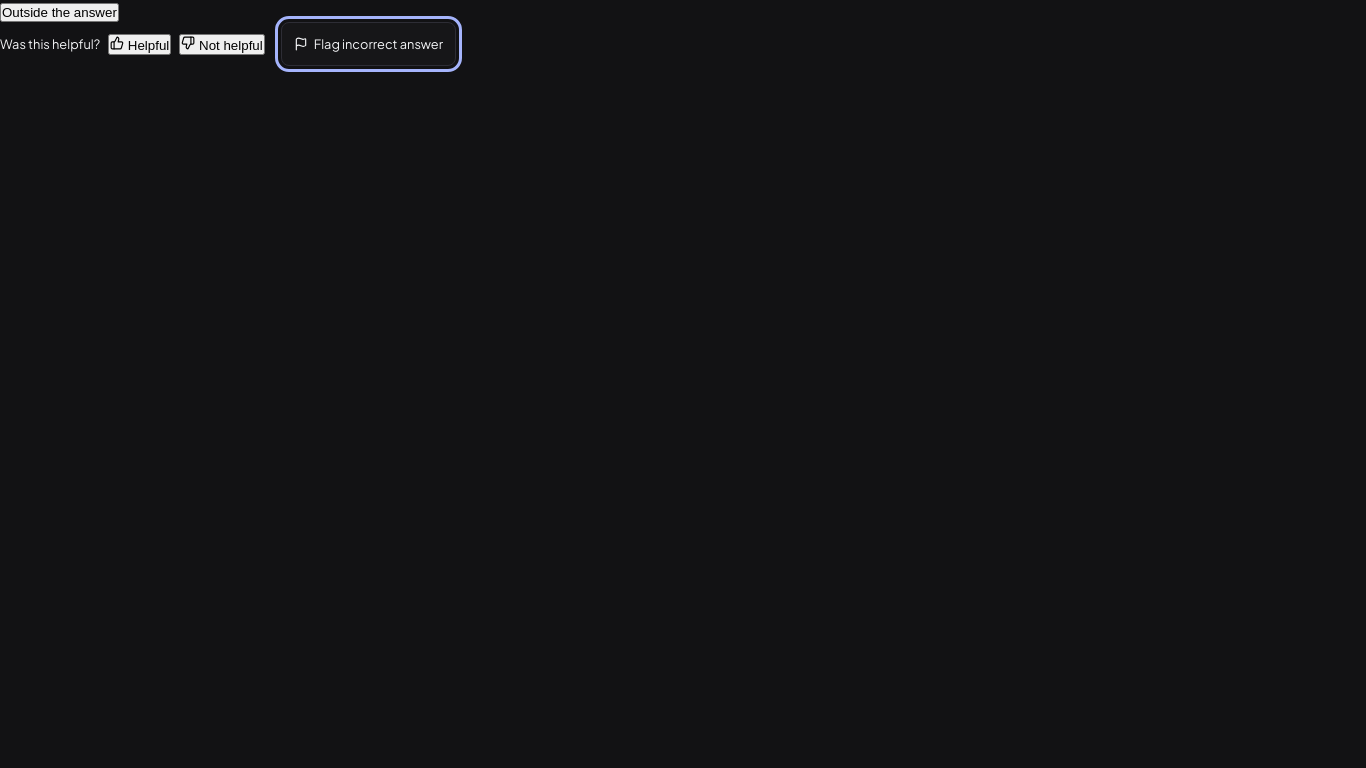
Test: Report dialog accessibility and dismissal › dismisses with Close report dialog and restores focus without sending
Step 1. Click the button "Flag incorrect answer" → {"x": 368, "y": 44}, box [281,22,456,66]
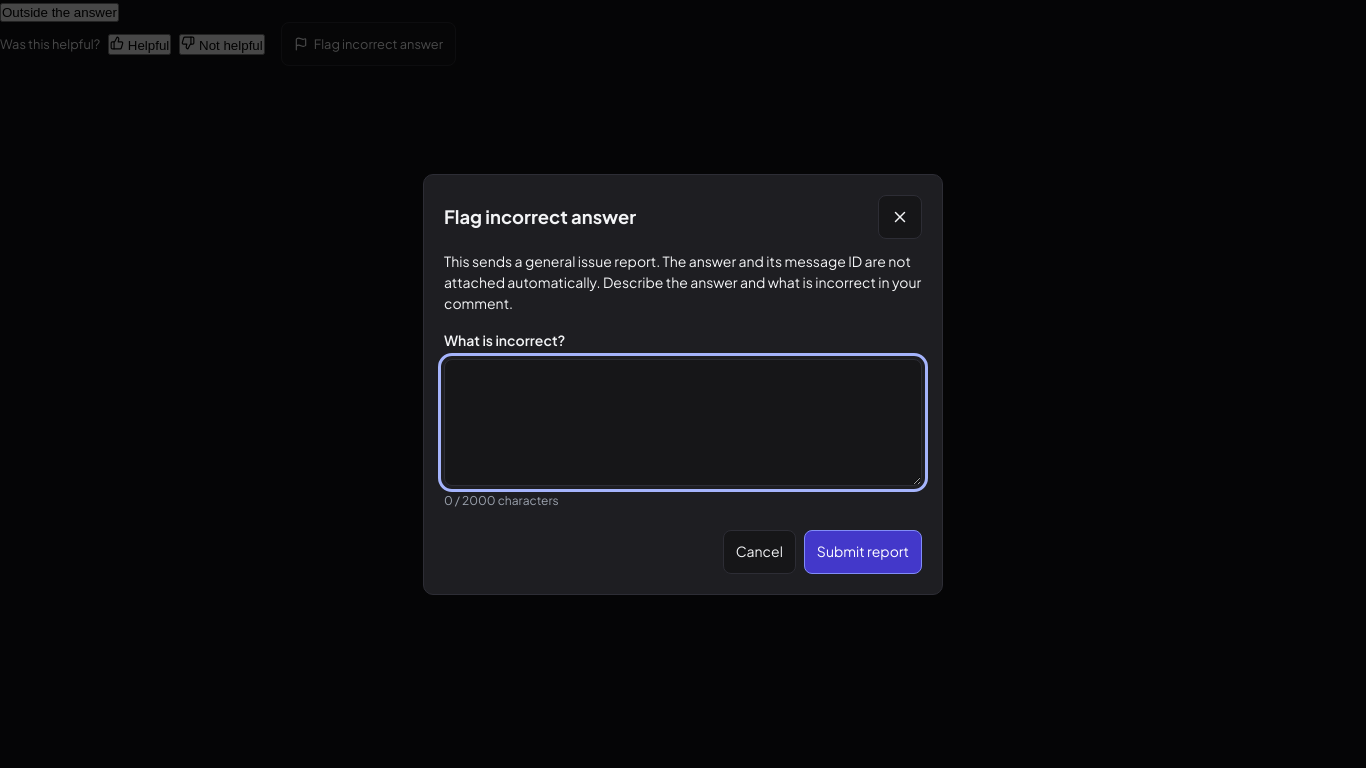
Step 2. Type "The second step uses the wrong sign." into the text box labelled "What is incorrect?" → {"x": 683, "y": 422}, box [444,358,922,486]
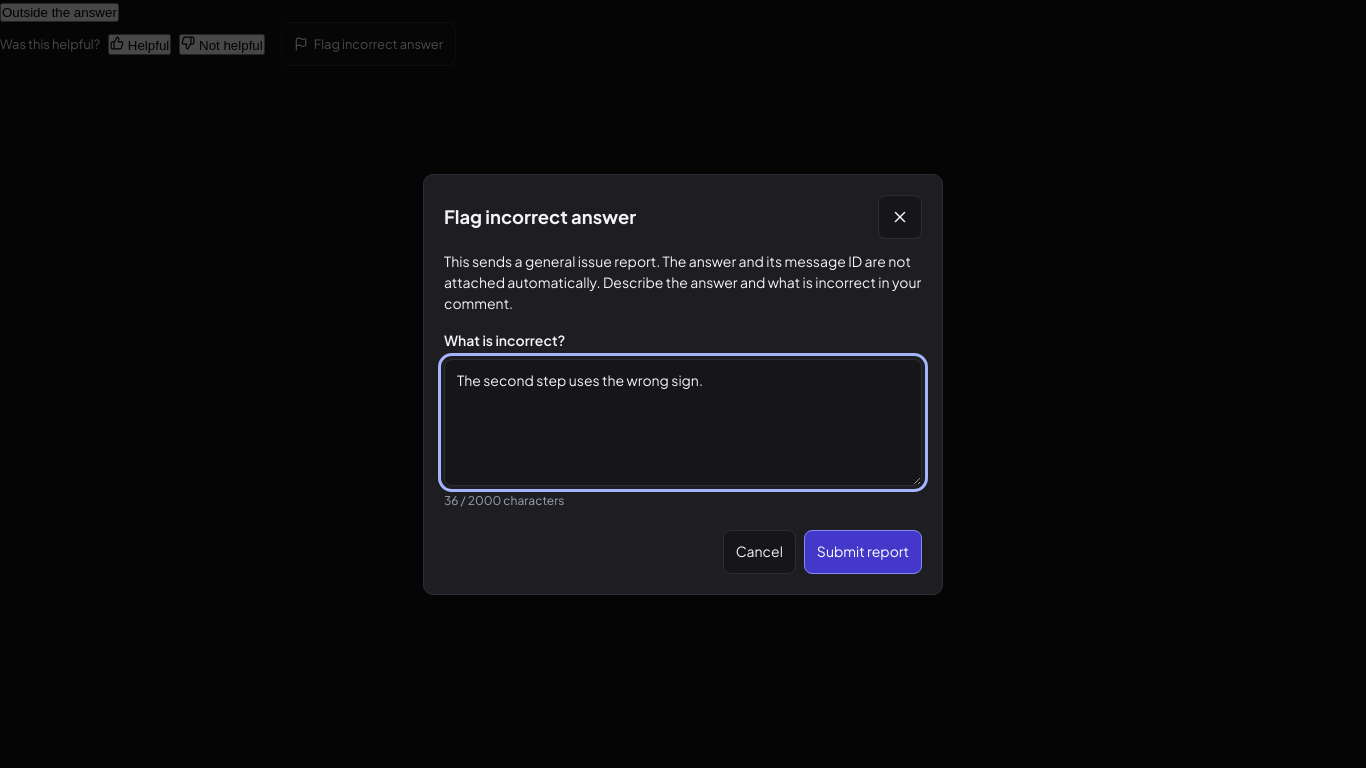
Step 3. Click the button named "Close report dialog" → {"x": 900, "y": 216}, box [878,194,922,238]
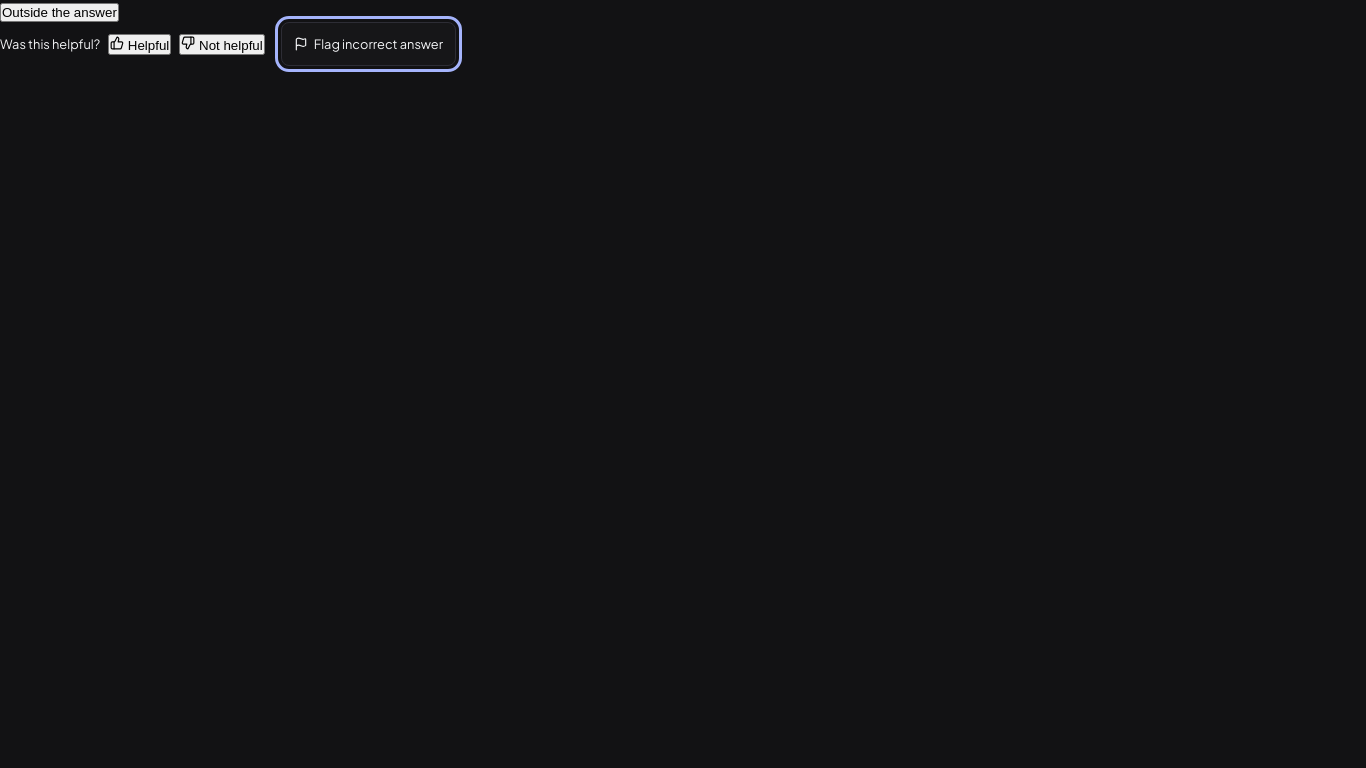
Result: the dialog is gone
